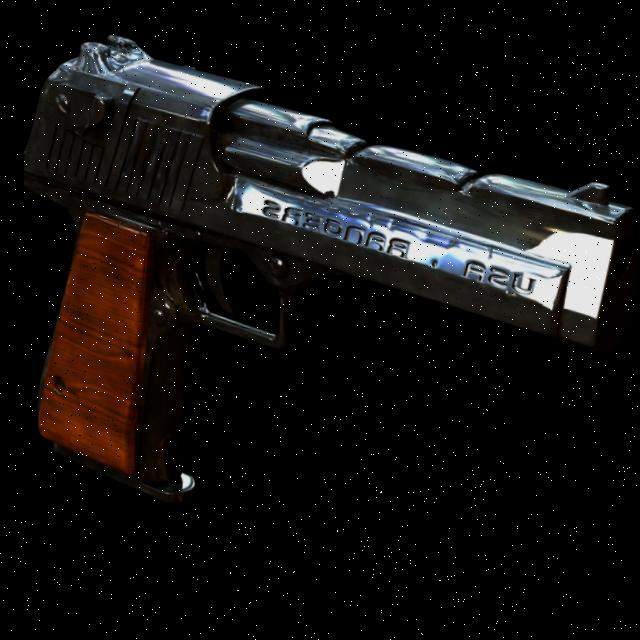pistol: (1, 6, 640, 550)
